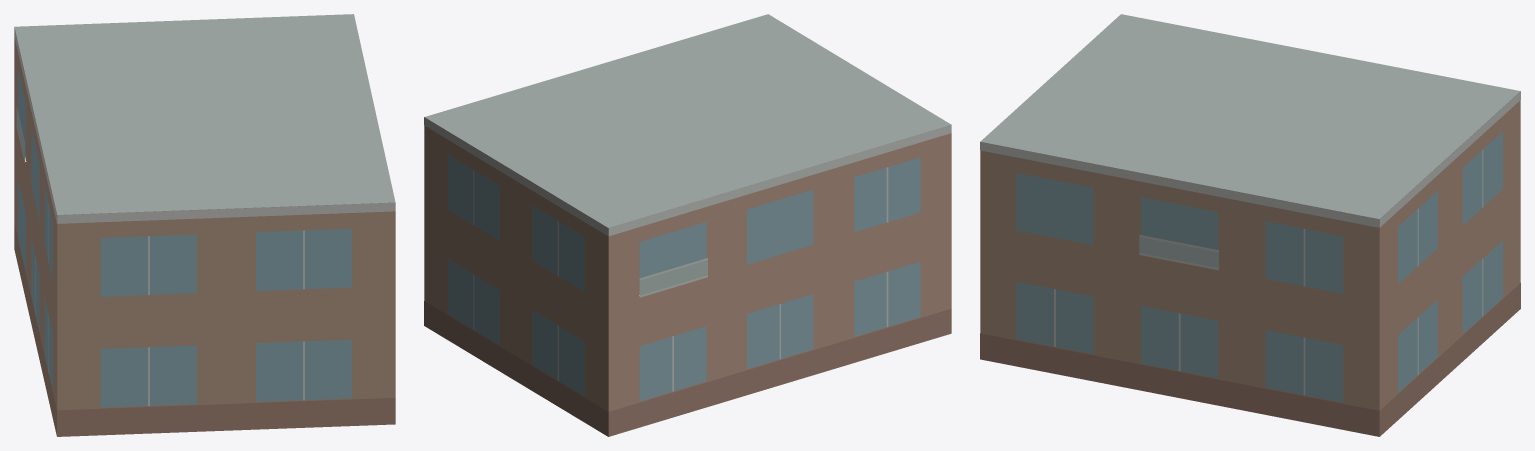
The model's file is survey-upis-32805055.glb.
3 renders of one model, left to right at view 1: azimuth 30°, elevation 25°; view 2: azimuth 150°, elevation 25°; view 3: azimuth 270°, elevation 25°, orthographic. The views are drawn at different scales.
Visible parts, largest first — view 1: survey-upis-32805055.tmp; view 2: survey-upis-32805055.tmp; view 3: survey-upis-32805055.tmp.
Boxes of the visible parts, x1,y1,x2,y2 form: survey-upis-32805055.tmp: (14,14,395,436); survey-upis-32805055.tmp: (424,14,951,436); survey-upis-32805055.tmp: (980,14,1520,436).
Bounding box in the file's own units: 12.34 × 6.1 × 13.74.
